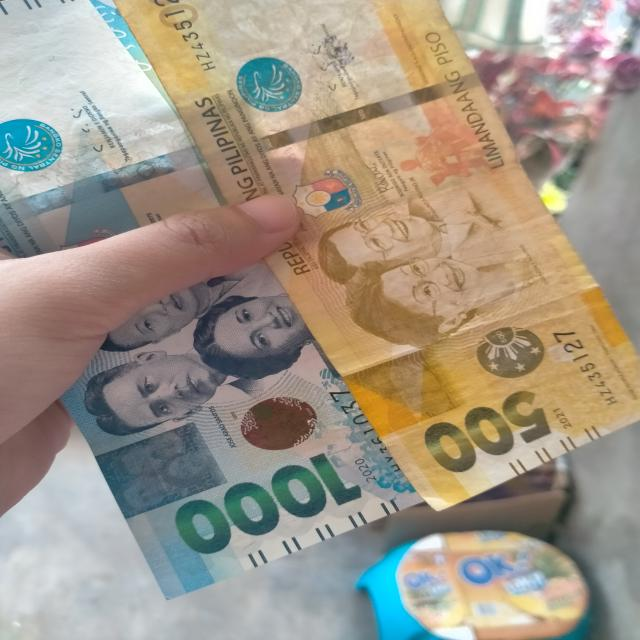concealed_value: (94, 420, 231, 521), (344, 348, 471, 439)
optically_variable_device: (449, 315, 585, 395), (211, 384, 341, 465)
security_thread: (200, 69, 482, 173), (0, 144, 209, 234)
see_through_mark: (71, 0, 165, 80)
value: (172, 455, 371, 544), (411, 379, 552, 466)
